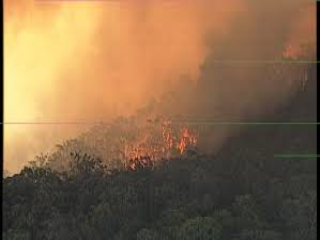fire: (117, 117, 206, 167)
smoke: (6, 4, 312, 116)
